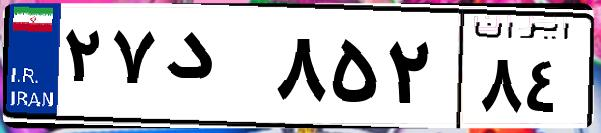2: (385, 28, 445, 110), (57, 26, 110, 100)
4: (525, 38, 570, 115)
5: (330, 28, 385, 110)
7: (110, 28, 158, 98)
8: (270, 28, 330, 110), (475, 38, 525, 113)
د: (158, 20, 270, 120)
